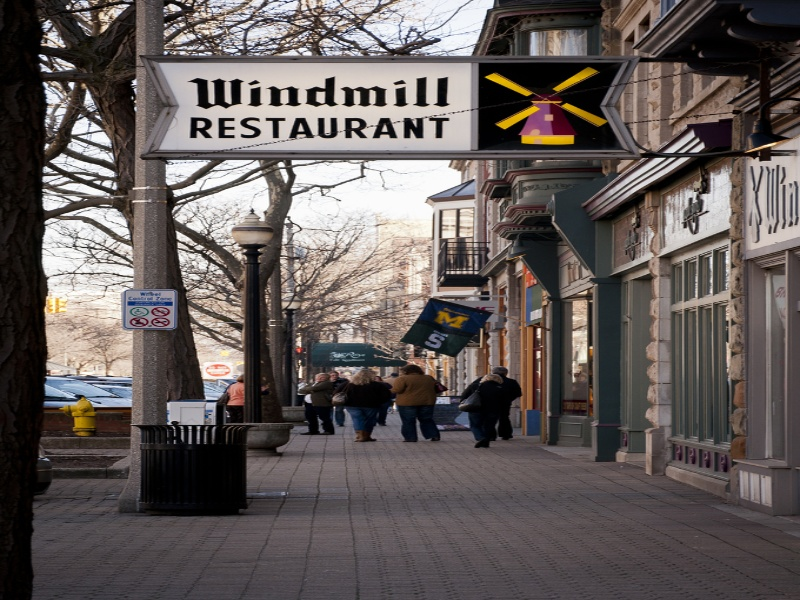restaurant: (142, 54, 637, 171)
